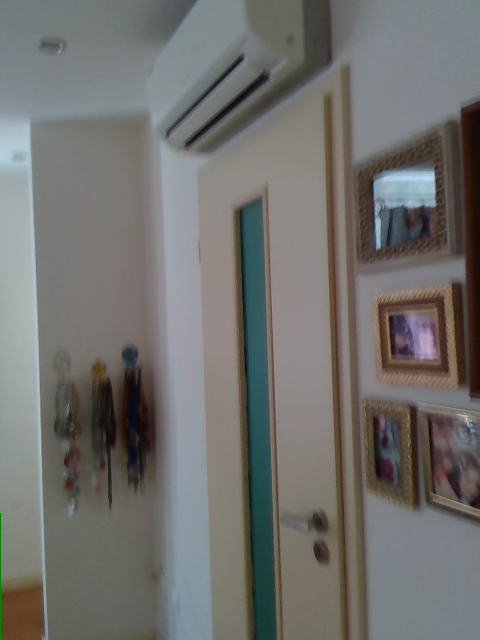closed: (193, 63, 369, 639)
